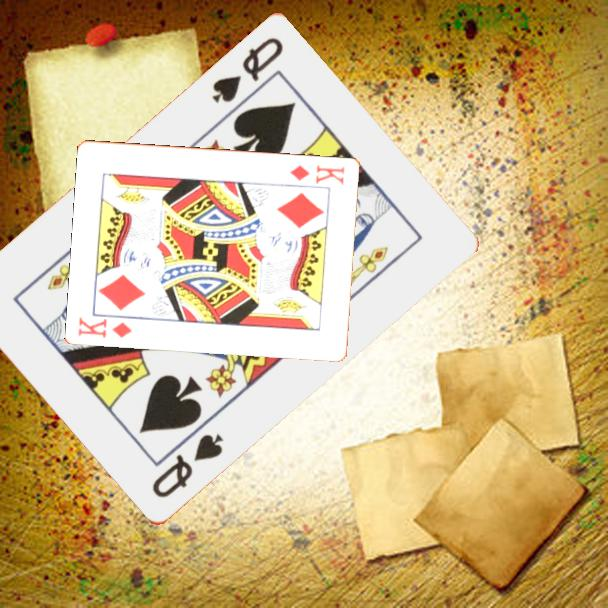d13: (287, 161, 348, 188), (75, 313, 135, 340)
s12: (208, 34, 287, 108), (148, 431, 227, 502)
